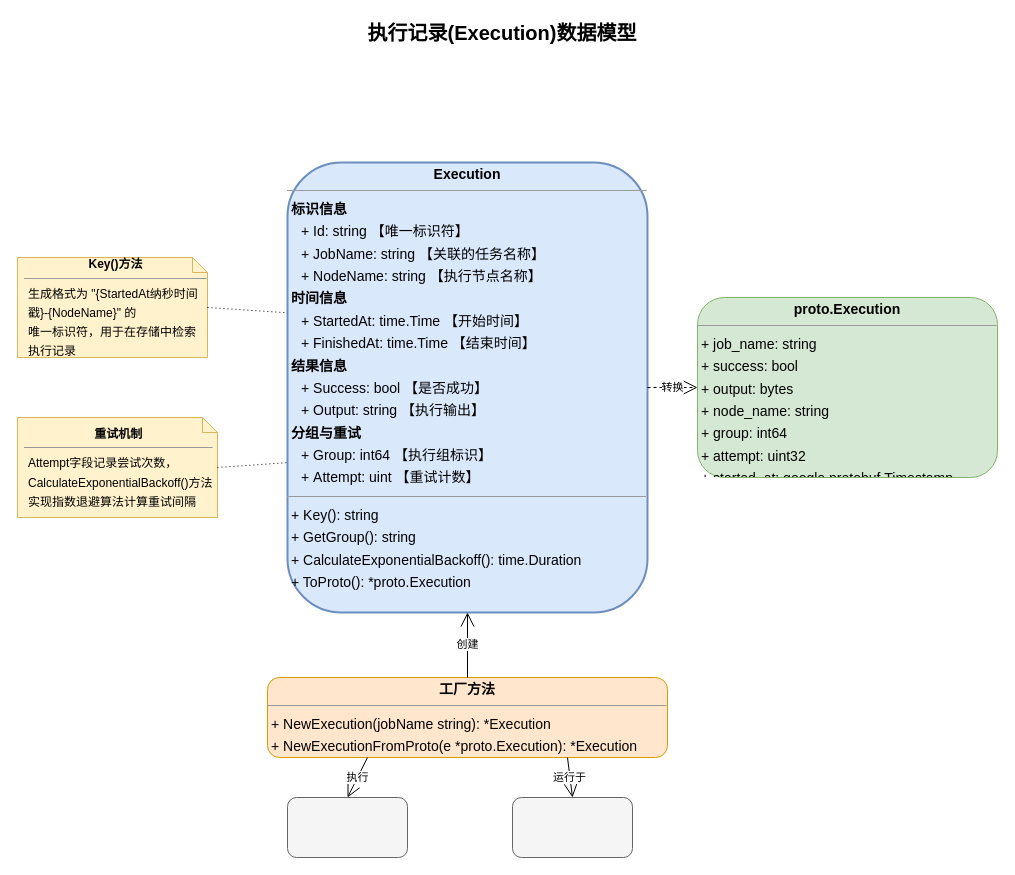
This 1015x875 diagram has some shape labels left out. The box of each missing label's shape, as (x1, y1, x2, y2) in pixels:
Agent Node 【执行节点】: (512, 796, 632, 858)
Job 【任务定义】: (286, 796, 408, 858)
